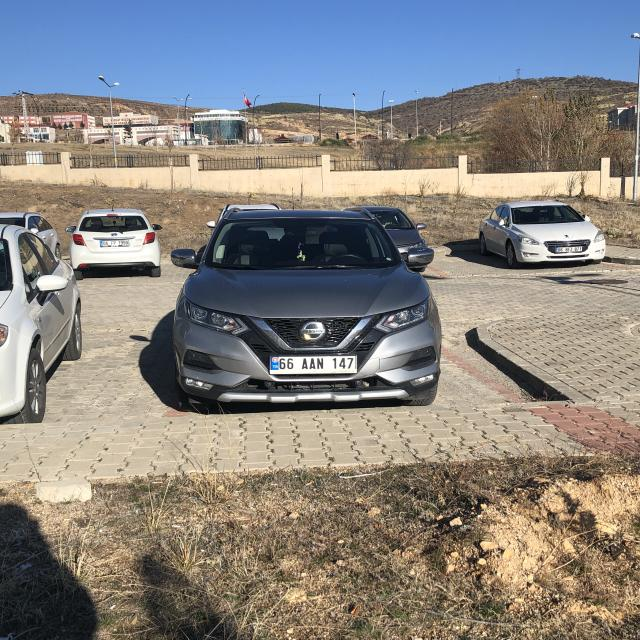license_plate: (270, 356, 358, 370)
